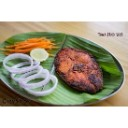seerfish: (55, 47, 104, 92)
